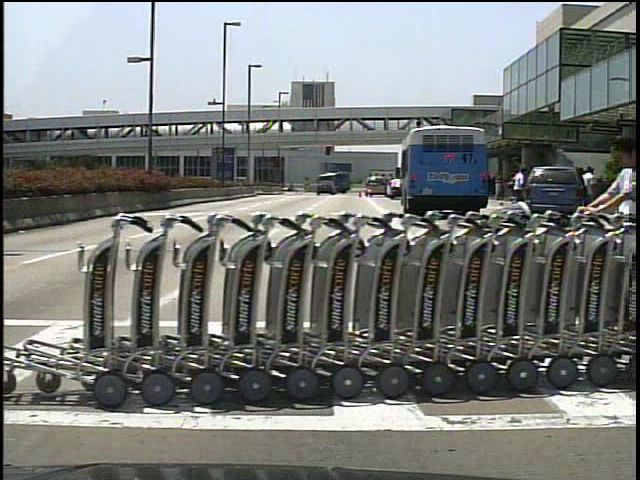person: (580, 165, 601, 214), (574, 164, 591, 221), (510, 162, 524, 212)
